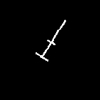double_crochet: (36, 20, 65, 60)
